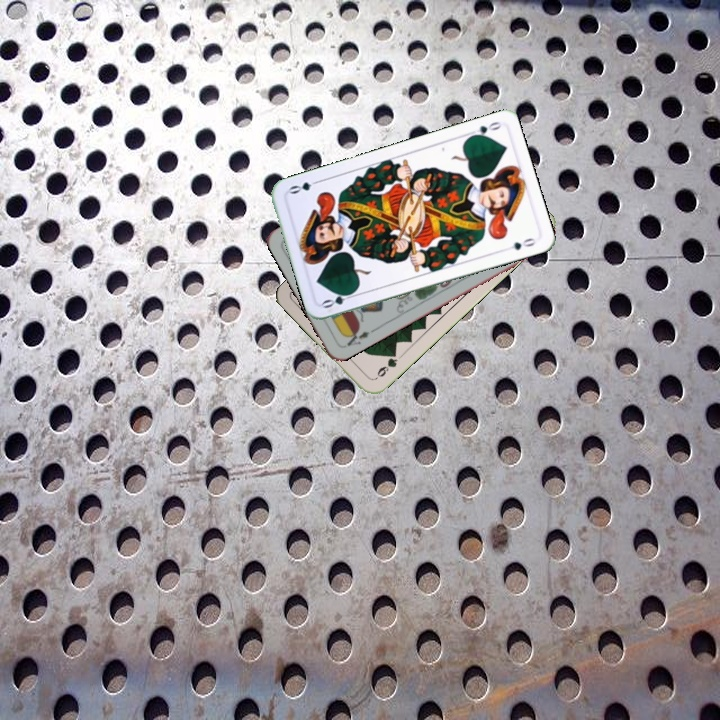EA: (341, 325, 372, 349)
G9: (370, 348, 401, 383)
GO: (319, 287, 359, 311), (463, 117, 503, 141)
